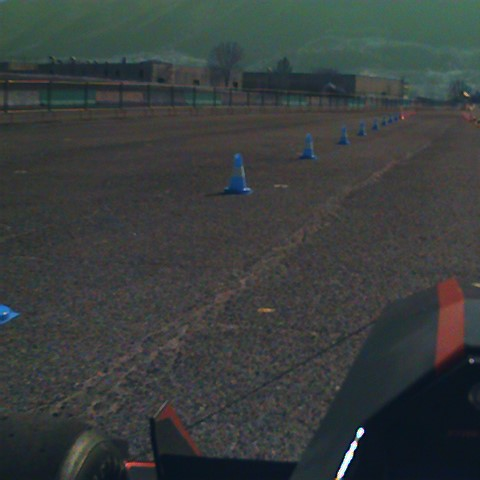cone: (225, 153, 254, 195), (1, 304, 19, 324), (301, 134, 315, 158), (337, 125, 350, 145), (359, 123, 366, 136), (371, 122, 376, 132)
